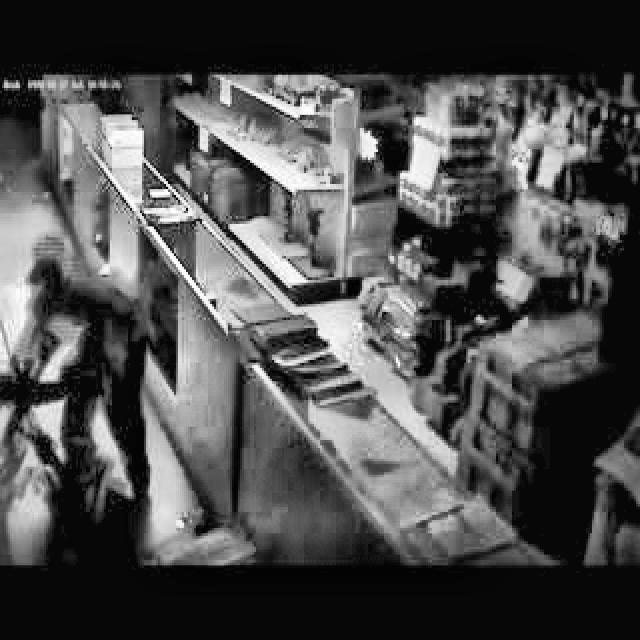burglary: (0, 249, 161, 537)
